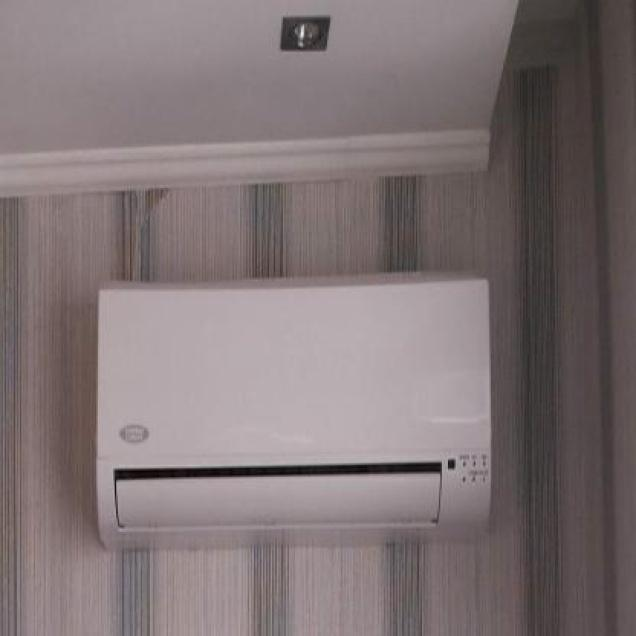AC: (94, 273, 491, 552)
